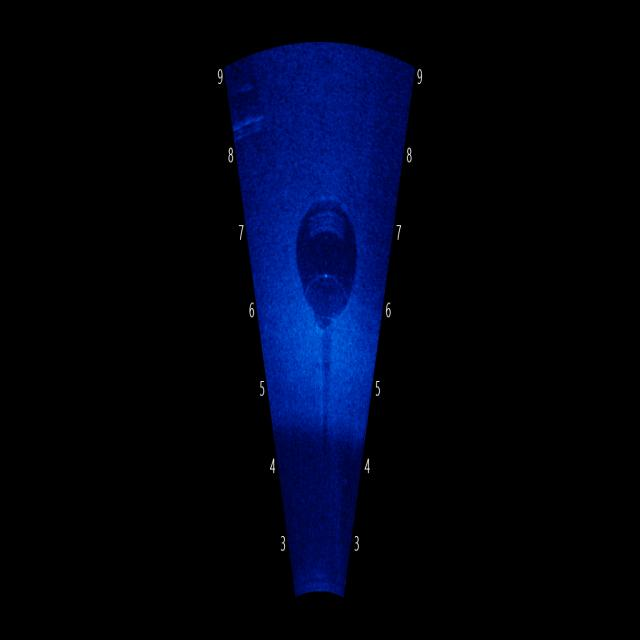circle: (276, 164, 366, 340)
